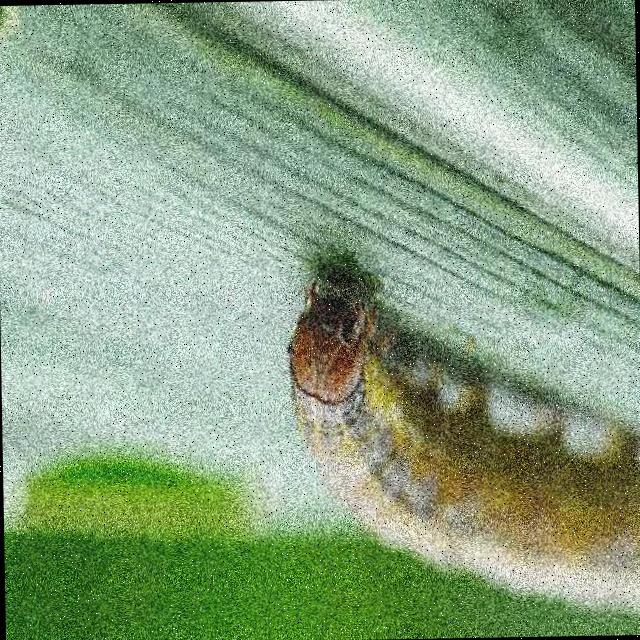worm: (284, 258, 640, 621)
